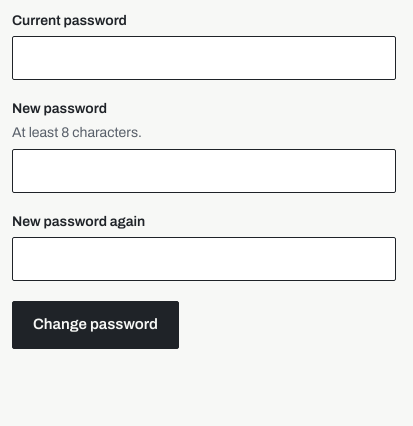
Test: ChangePasswordForm › signs this device back in with the new password, then says other devices were signed out
The image size is (413, 426).
Step 1. Type "old-password" into the password field labelled "Current password" → (204, 58), box [12,36,396,80]
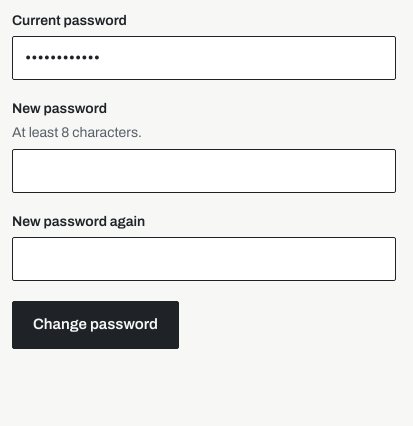
Step 2. Type "brand-new-pass" into the password field labelled "New password" → (204, 171), box [12,149,396,193]
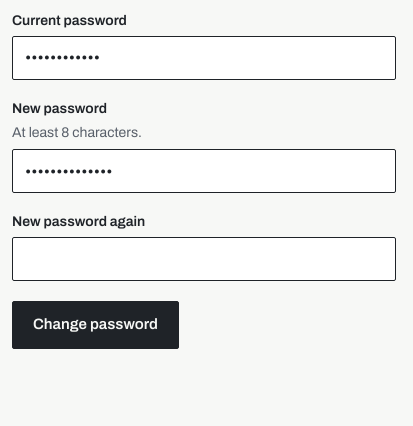
Step 3. Type "brand-new-pass" into the password field labelled "New password again" → (204, 258), box [12,236,396,280]
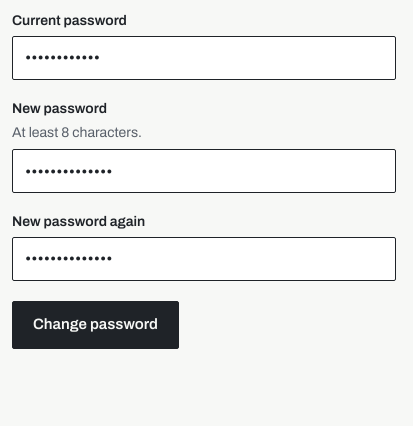
Step 4. Submit the form labelled "Current password"
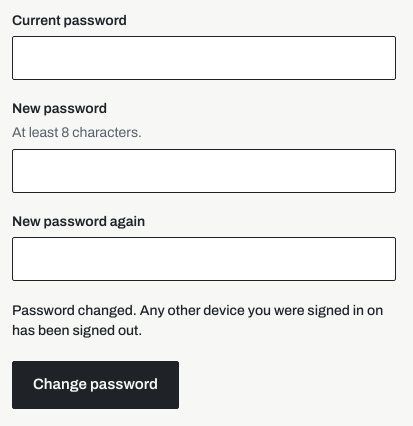
expect the message reads "Password changed. Any other device you were signed in on has been signed out.": met, box [12,302,383,338]
